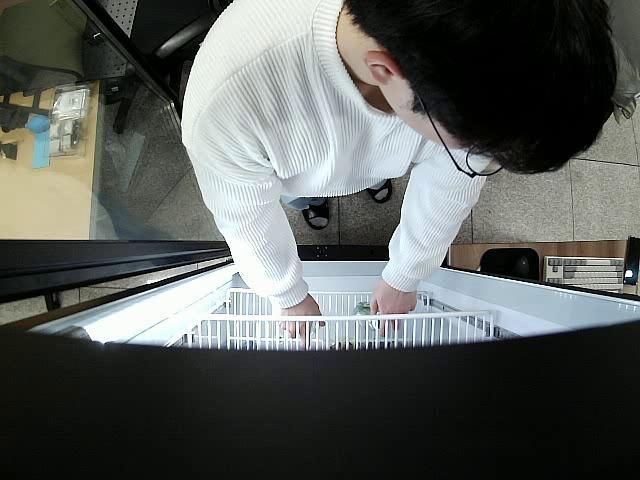18_trevi: (352, 304, 382, 333)
